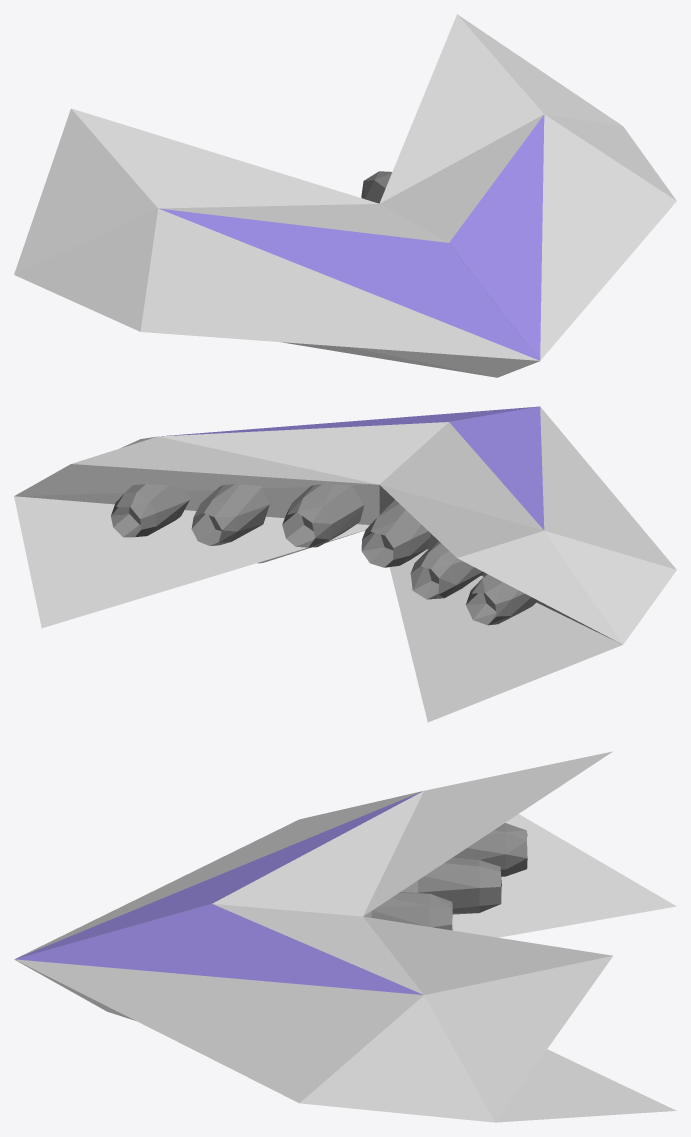
Rendered from Ship.fbx.
3 renders of one model, top to bottom at view 1: azimuth 30°, elevation 25°; view 2: azimuth 150°, elevation 25°; view 3: azimuth 270°, elevation 25°, orthographic. The views are drawn at different scales.
Parts seen in each view (by area): view 1: Cylinder.001; view 2: Cylinder.001; view 3: Cylinder.001.
Part boxes in pixels (x1,y1,x2,y2): Cylinder.001: (14,14,676,377); Cylinder.001: (14,406,676,722); Cylinder.001: (14,751,676,1122).
Size of the model in its own units: 156 by 40.39 by 136.
